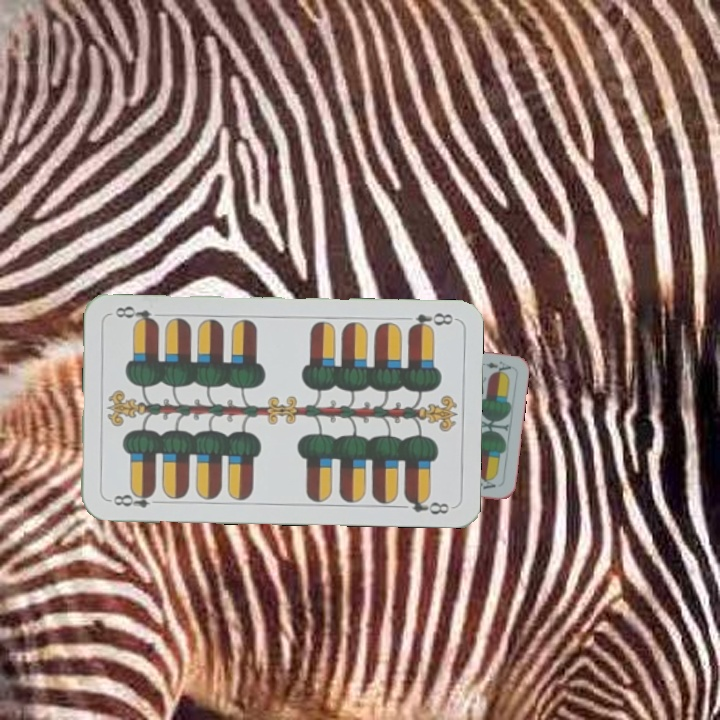E8: (105, 487, 164, 510), (405, 308, 456, 333)
EA: (482, 357, 514, 375)
